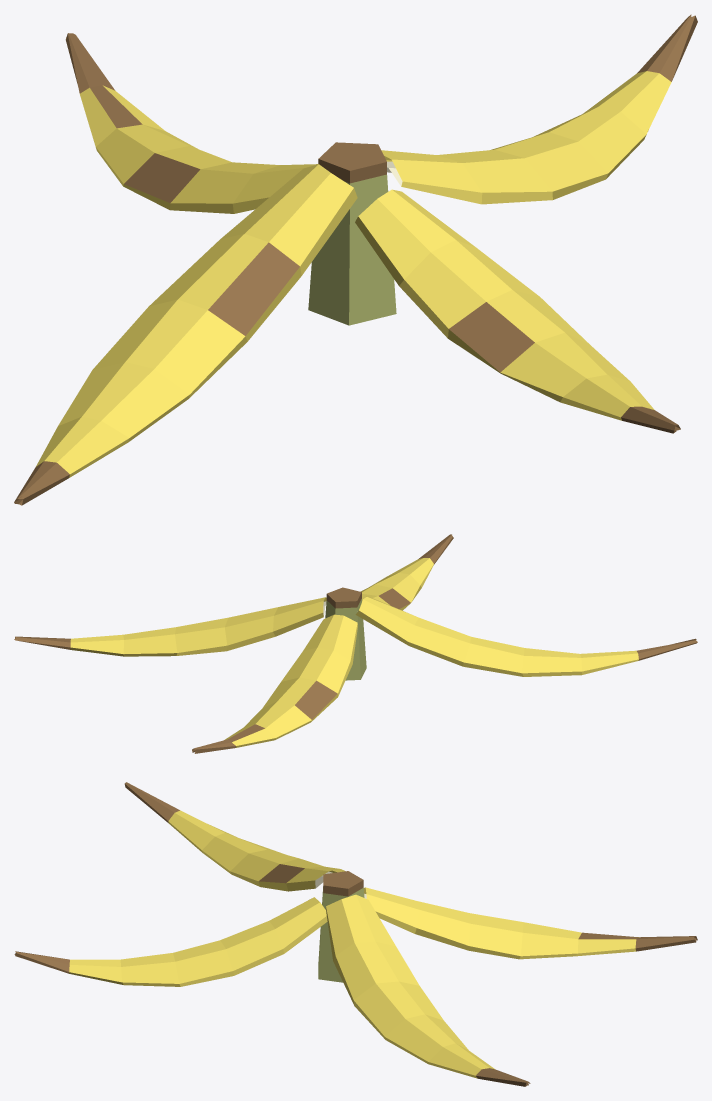
File: Banana.fbx
The picture shows the model from 3 angles, top to bottom: view 1: azimuth 30°, elevation 25°; view 2: azimuth 150°, elevation 25°; view 3: azimuth 270°, elevation 25°; orthographic projection. The views are drawn at different scales.
Parts seen in each view (by area): view 1: Cascara_Banana; view 2: Cascara_Banana; view 3: Cascara_Banana.
Boxes of the visible parts, x1,y1,x2,y2 form: Cascara_Banana: (14, 14, 697, 505); Cascara_Banana: (14, 534, 697, 753); Cascara_Banana: (14, 782, 697, 1086).
Bounding box in the file's own units: 33.67 × 4.81 × 32.24.
